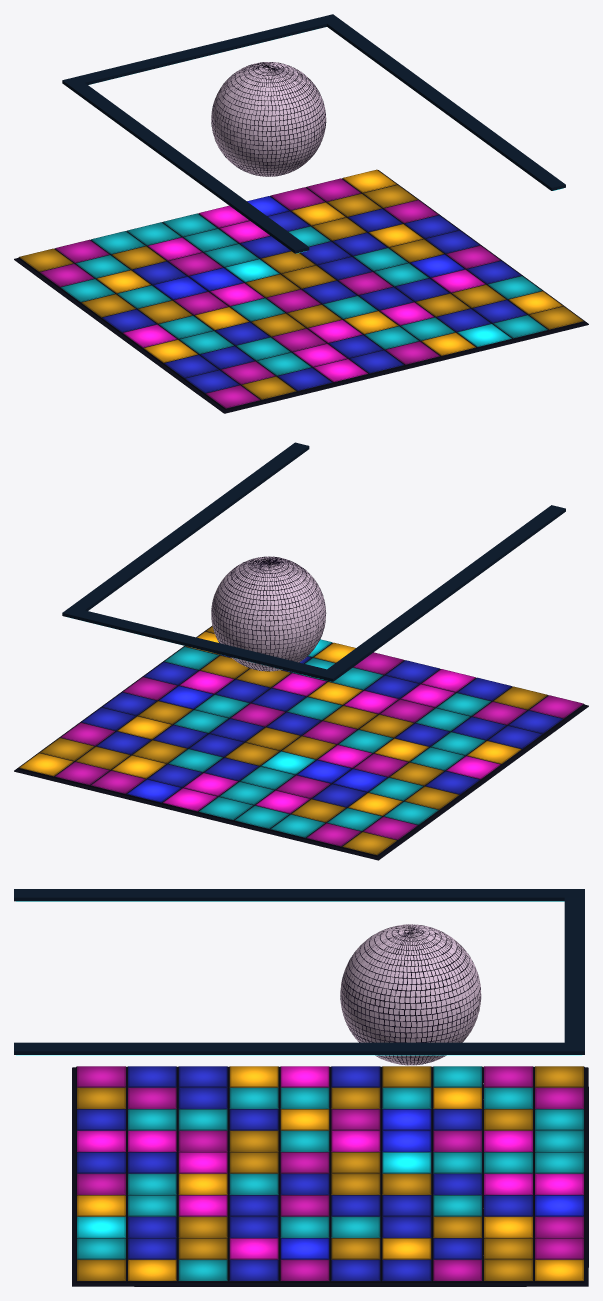
The model's file is nightshift-static.glb.
3 renders of one model, top to bottom at view 1: azimuth 30°, elevation 25°; view 2: azimuth 150°, elevation 25°; view 3: azimuth 270°, elevation 25°, orthographic. The views are drawn at different scales.
Parts seen in each view (by area): view 1: nightshift.ball.mirrors, nightshift.ball.grout, nightshift.ceiling.housing.-5.2, nightshift.ceiling.housing.5.2, nightshift.ceiling.rear-housing, nightshift.floor.chassis, nightshift.floor.cell.9.6, nightshift.floor.cell.0.3, nightshift.floor.cell.1.7, nightshift.floor.cell.2.2, nightshift.floor.cell.3.7, nightshift.floor.cell.4.1 (+91 smaller); view 2: nightshift.ball.mirrors, nightshift.ball.grout, nightshift.ceiling.housing.-5.2, nightshift.ceiling.housing.5.2, nightshift.ceiling.rear-housing, nightshift.floor.chassis, nightshift.floor.cell.0.6, nightshift.floor.cell.0.7, nightshift.floor.cell.3.4, nightshift.floor.cell.3.9, nightshift.floor.cell.1.3, nightshift.floor.cell.1.4 (+86 smaller); view 3: nightshift.ball.mirrors, nightshift.ceiling.housing.5.2, nightshift.ceiling.housing.-5.2, nightshift.ball.grout, nightshift.floor.chassis, nightshift.ceiling.rear-housing, nightshift.floor.cell.3.0, nightshift.floor.cell.3.1, nightshift.floor.cell.3.2, nightshift.floor.cell.3.3, nightshift.floor.cell.3.4, nightshift.floor.cell.3.5 (+96 smaller).
Boxes of the visible parts, bbox=[...] form: nightshift.ball.mirrors: bbox=[211, 62, 326, 176]; nightshift.ball.grout: bbox=[211, 62, 326, 176]; nightshift.ceiling.housing.-5.2: bbox=[65, 79, 309, 253]; nightshift.ceiling.housing.5.2: bbox=[323, 16, 565, 190]; nightshift.ceiling.rear-housing: bbox=[62, 14, 338, 85]; nightshift.floor.chassis: bbox=[14, 170, 588, 413]; nightshift.floor.cell.9.6: bbox=[421, 332, 475, 355]; nightshift.floor.cell.0.3: bbox=[127, 222, 180, 245]; nightshift.floor.cell.1.7: bbox=[292, 202, 345, 225]; nightshift.floor.cell.2.2: bbox=[133, 261, 186, 284]; nightshift.floor.cell.3.7: bbox=[333, 232, 387, 255]; nightshift.floor.cell.4.1: bbox=[138, 300, 192, 323]; nightshift.ball.mirrors: bbox=[211, 556, 325, 671]; nightshift.ball.grout: bbox=[211, 556, 326, 671]; nightshift.ceiling.housing.-5.2: bbox=[322, 505, 565, 679]; nightshift.ceiling.housing.5.2: bbox=[66, 442, 309, 613]; nightshift.ceiling.rear-housing: bbox=[62, 607, 340, 681]; nightshift.floor.chassis: bbox=[14, 626, 588, 860]; nightshift.floor.cell.0.6: bbox=[127, 779, 180, 802]; nightshift.floor.cell.0.7: bbox=[91, 770, 145, 793]; nightshift.floor.cell.3.4: bbox=[261, 751, 315, 774]; nightshift.floor.cell.3.9: bbox=[81, 707, 135, 730]; nightshift.floor.cell.1.3: bbox=[256, 790, 309, 813]; nightshift.floor.cell.1.4: bbox=[219, 781, 273, 804]; nightshift.ball.mirrors: bbox=[340, 924, 481, 1065]; nightshift.ceiling.housing.5.2: bbox=[14, 1042, 576, 1054]; nightshift.ceiling.housing.-5.2: bbox=[14, 889, 576, 901]; nightshift.ball.grout: bbox=[340, 924, 480, 1065]; nightshift.floor.chassis: bbox=[72, 1067, 588, 1286]; nightshift.ceiling.rear-housing: bbox=[564, 889, 584, 1054]; nightshift.floor.cell.3.0: bbox=[382, 1066, 431, 1087]; nightshift.floor.cell.3.1: bbox=[382, 1087, 431, 1108]; nightshift.floor.cell.3.2: bbox=[382, 1109, 431, 1130]; nightshift.floor.cell.3.3: bbox=[382, 1130, 431, 1151]; nightshift.floor.cell.3.4: bbox=[382, 1152, 431, 1173]; nightshift.floor.cell.3.5: bbox=[382, 1173, 431, 1194].
Bounding box in the file's own units: 14.81 × 7.79 × 16.46.
17 materials, 12 textured.
